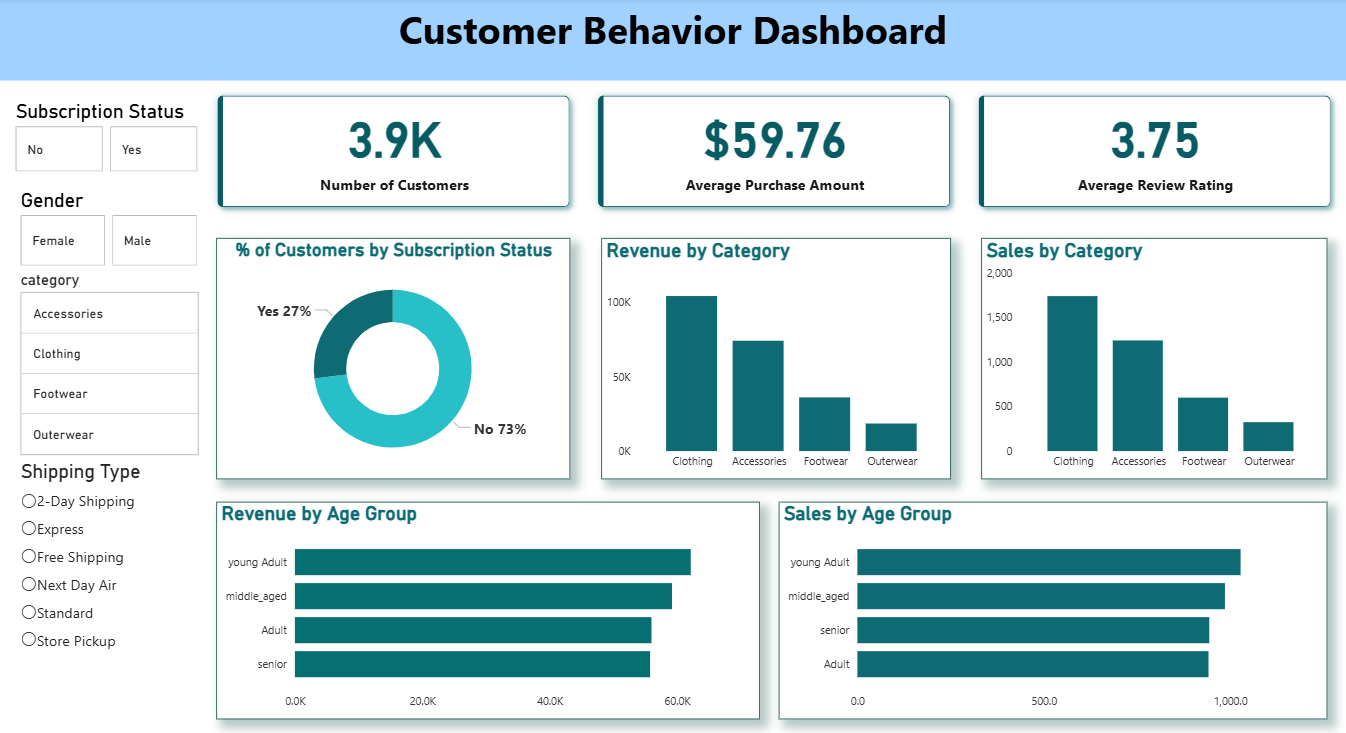

This screenshot's page, from the dashboard's own definition file:
{"tool":"powerbi","page":{"name":"Page 1","canvas":[1500,820],"ordinal":0},"visuals":[{"type":"cardVisual","fields":{"Data":["public customer.Number of Customers","public customer.Average Purchase Amount","public customer.Average Review Rating"]},"box":[225.6,91.9,1274.3,158.8],"z":0},{"type":"textbox","box":[0,0,1499.9,91.9],"z":1000},{"type":"donutChart","title":"% of Customers by Subscription Status","fields":{"Category":["public customer.subscription_status"],"Y":["public customer.Number of Customers"]},"box":[240.9,267.4,394.1,268.8],"z":2000},{"type":"columnChart","title":"Revenue by Category","fields":{"Y":["Sum(public customer.purchase_amount)"],"Category":["public customer.category"]},"box":[669.9,267.4,389.9,268.8],"z":3000},{"type":"columnChart","title":"Sales by Category","fields":{"Category":["public customer.category"],"Y":["CountNonNull(public customer.customer_id)"]},"box":[1093.2,267.4,385.8,268.8],"z":4000},{"type":"clusteredBarChart","title":"Revenue by Age Group","fields":{"Category":["public customer.age_group"],"Y":["Sum(public customer.purchase_amount)"]},"box":[240.9,561.2,605.8,242.3],"z":5000},{"type":"clusteredBarChart","title":"Sales by Age Group","fields":{"Category":["public customer.age_group"],"Y":["CountNonNull(public customer.customer_id)"]},"box":[867.6,561.2,611.4,242.3],"z":6000},{"type":"advancedSlicerVisual","fields":{"Values":["public customer.subscription_status"]},"box":[12.5,114.2,213.1,85],"z":7000},{"type":"advancedSlicerVisual","title":"Gender","fields":{"Values":["public customer.gender"]},"box":[18.1,213.1,207.5,90.5],"z":8000},{"type":"listSlicer","title":"Shipping Type","fields":{"Values":["public customer.shipping_type"]},"box":[18.1,515.3,196.4,288.3],"z":10000},{"type":"advancedSlicerVisual","fields":{"Values":["public customer.category"]},"box":[18,304,208,211],"z":10001}]}

Visuals, with their boxes in screenshot pixels (x1, y1, x2, y2), scaled from the page's 1500x820 canvas onto the 1346x733 screenshot:
cardVisual - public customer.Number of Customers x public customer.Average Purchase Amount: crop(202, 82, 1345, 224)
textbox: crop(0, 0, 1345, 82)
"% of Customers by Subscription Status" donutChart: crop(216, 239, 570, 479)
"Revenue by Category" columnChart: crop(601, 239, 951, 479)
"Sales by Category" columnChart: crop(981, 239, 1327, 479)
"Revenue by Age Group" clusteredBarChart: crop(216, 502, 760, 718)
"Sales by Age Group" clusteredBarChart: crop(779, 502, 1327, 718)
advancedSlicerVisual - public customer.subscription_status: crop(11, 102, 202, 178)
"Gender" advancedSlicerVisual: crop(16, 190, 202, 271)
"Shipping Type" listSlicer: crop(16, 461, 192, 718)
advancedSlicerVisual - public customer.category: crop(16, 272, 203, 460)
